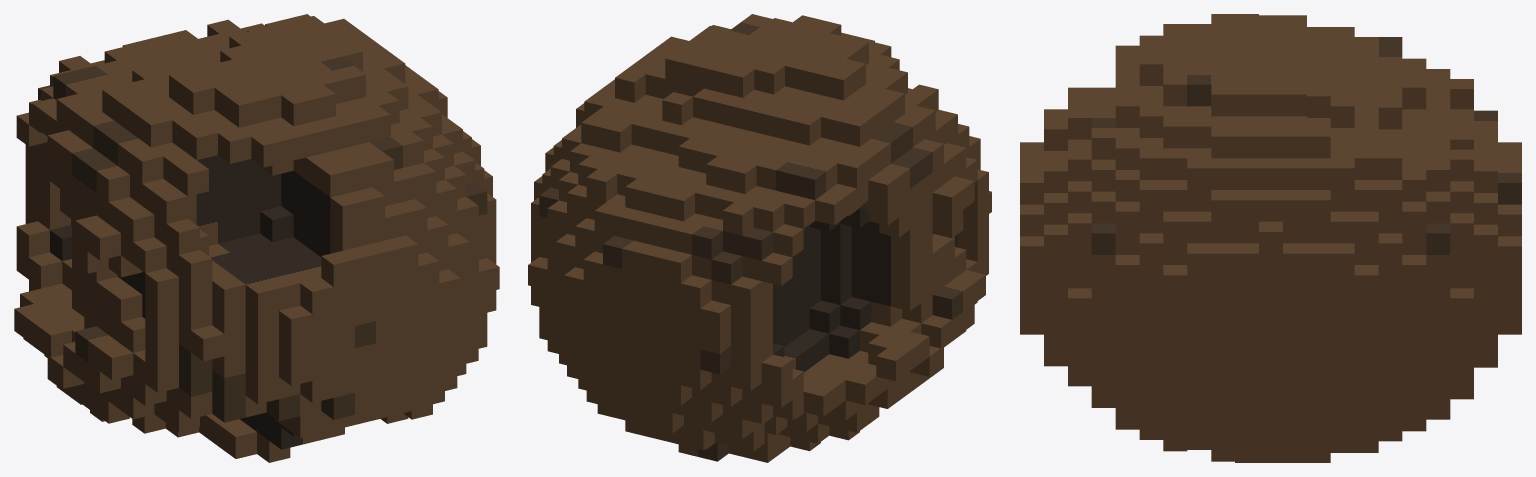
File: Meteor.glb
3 views of the same model, side by side, from view 1: azimuth 30°, elevation 25°; view 2: azimuth 150°, elevation 25°; view 3: azimuth 270°, elevation 25° (orthographic). The views are drawn at different scales.
Parts seen in each view (by area): view 1: meteor-Mesh; view 2: meteor-Mesh; view 3: meteor-Mesh.
Part boxes in pixels (box(x1,y1,x2,y2)): meteor-Mesh: box(14, 14, 499, 462); meteor-Mesh: box(528, 14, 991, 462); meteor-Mesh: box(1020, 14, 1521, 462).
Size of the model in its own units: 18 by 17 by 21.
Materials: 1 (1 with a texture image).
